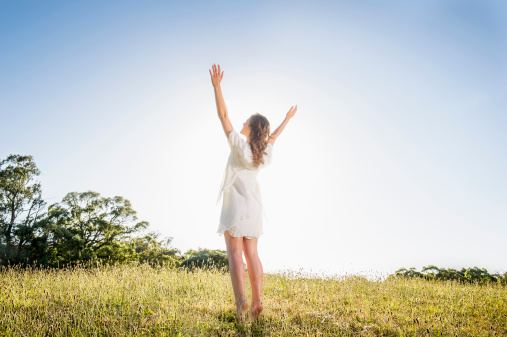em pe: (202, 75, 280, 329)
